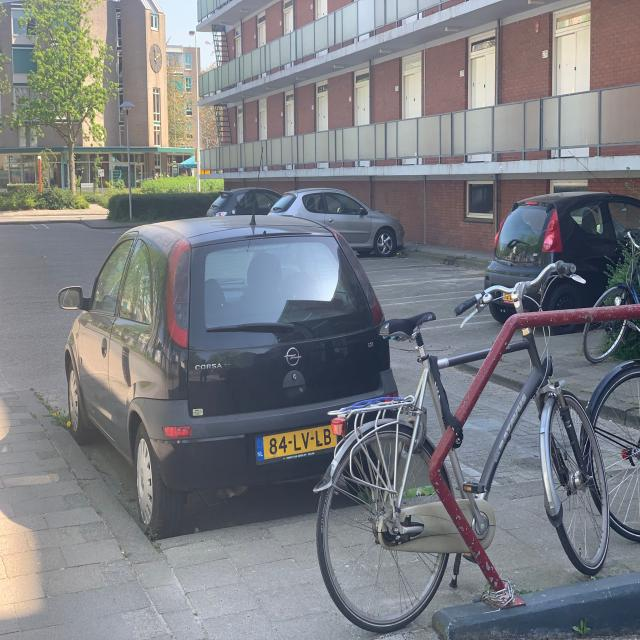plate: (252, 421, 342, 465)
